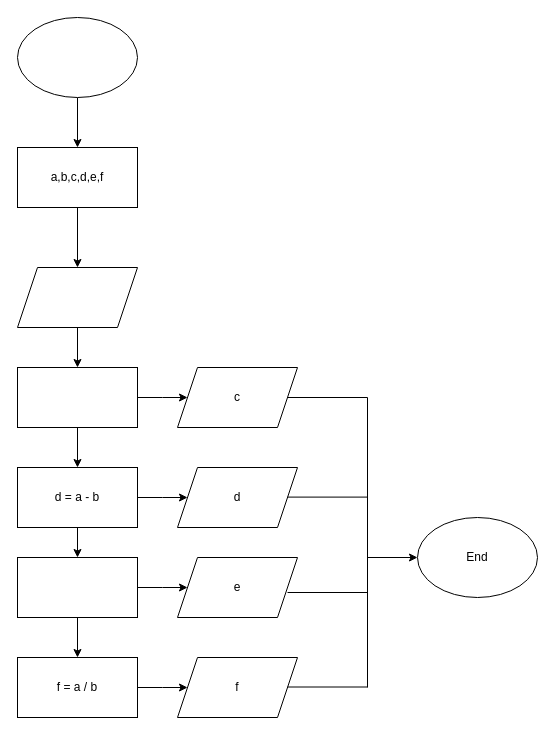
Some shapes in this 555 by 735 pixel diagram are drawn without their labels. The shapes that lost their labels are listed below. From the top down, each one's box as (x1, y1, x2, y2) in pixels, then its label:
(16, 16, 138, 98): Start
(16, 266, 138, 328): a,b
(16, 366, 138, 428): c = a + b
(16, 556, 138, 618): e = a * b
